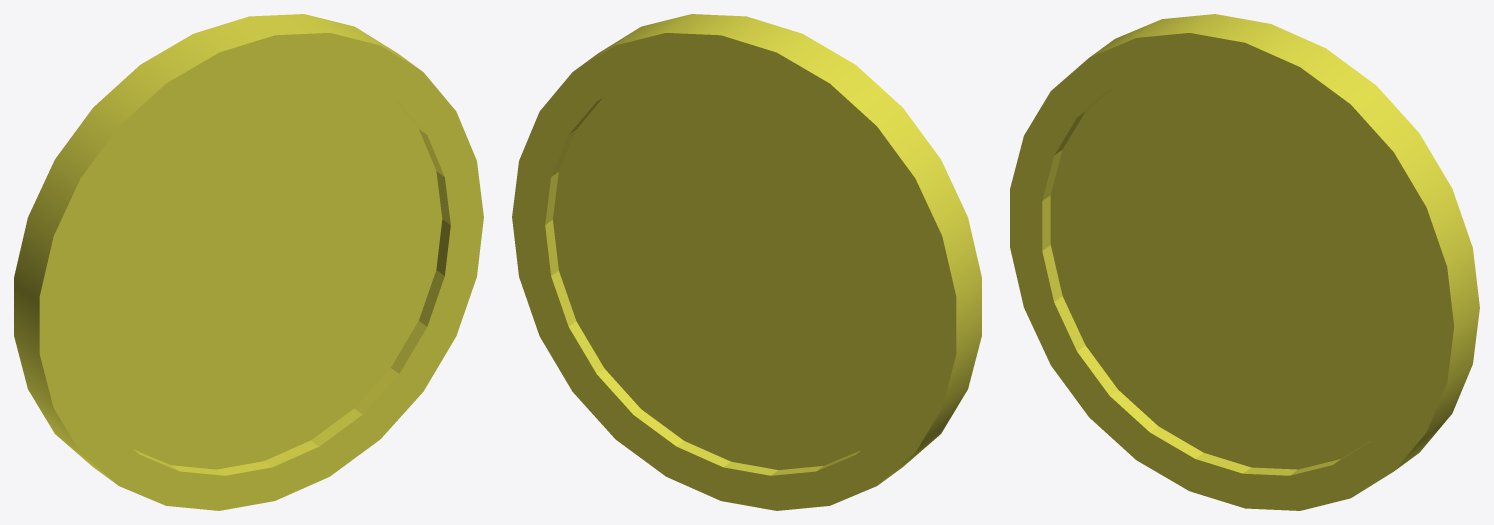
The model's file is credit.fbx.
The picture shows the model from 3 angles, left to right: view 1: azimuth 30°, elevation 25°; view 2: azimuth 150°, elevation 25°; view 3: azimuth 330°, elevation 25°; orthographic projection.
Parts seen in each view (by area): view 1: pCylinder2; view 2: pCylinder2; view 3: pCylinder2.
Boxes of the visible parts, bbox=[...] form: pCylinder2: bbox=[14, 14, 483, 510]; pCylinder2: bbox=[512, 14, 981, 510]; pCylinder2: bbox=[1010, 14, 1479, 510].
Bounding box in the file's own units: 39.93 × 40.01 × 4.01.
